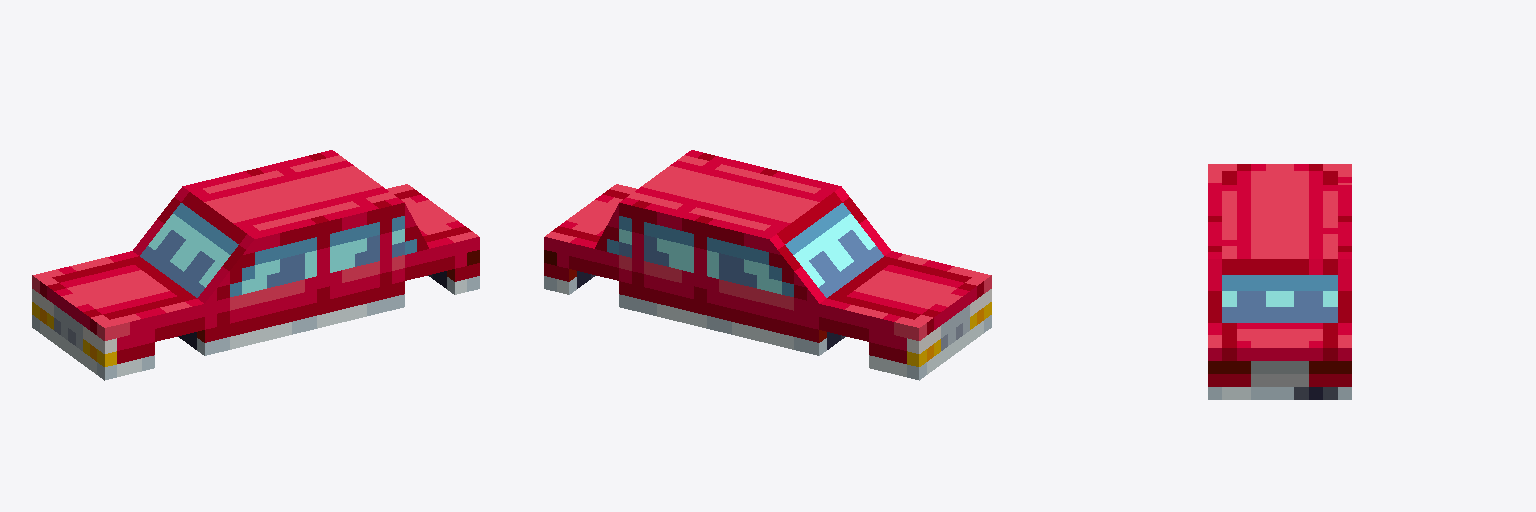
3 views of the same model, side by side, from view 1: azimuth 30°, elevation 25°; view 2: azimuth 150°, elevation 25°; view 3: azimuth 270°, elevation 25° (orthographic).
Parts seen in each view (by area): view 1: cuboid; view 2: cuboid; view 3: cuboid.
Boxes of the visible parts, x1,y1,x2,y2 form: cuboid: [32, 150, 479, 380]; cuboid: [544, 150, 991, 380]; cuboid: [1208, 164, 1351, 399].
Size of the model in its own units: 0.9375 by 0.25 by 0.3125.
1 materials, 1 textured.